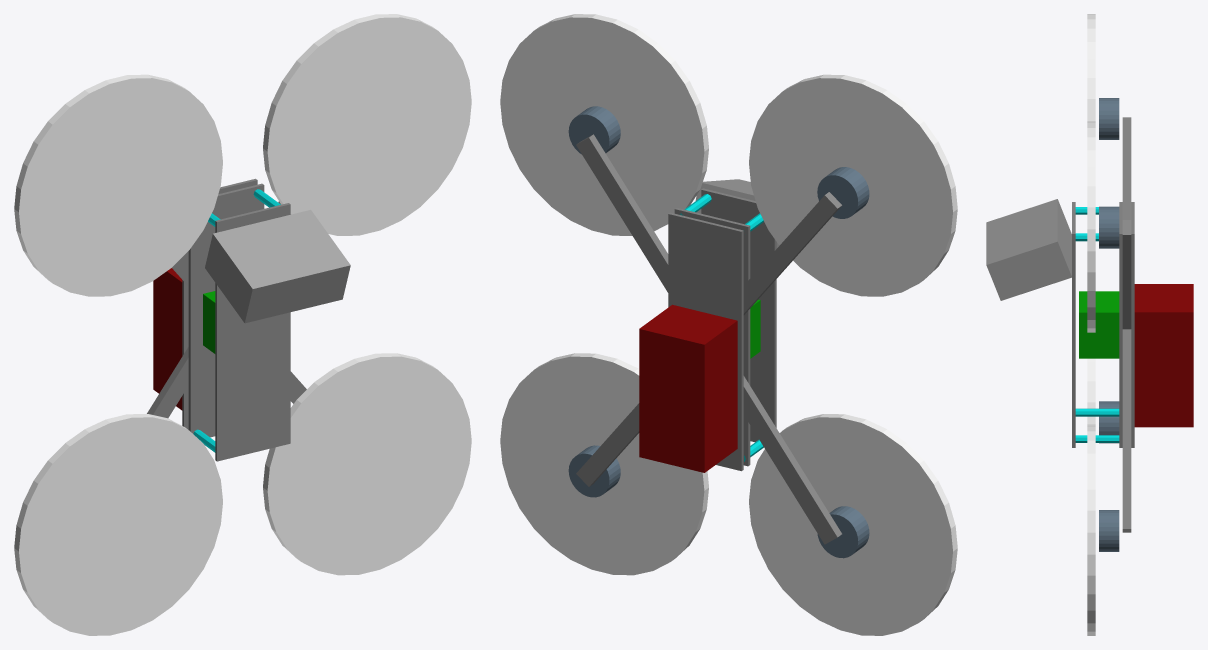
File: quad_model_scad.gltf
3 views of the same model, side by side, from view 1: azimuth 30°, elevation 25°; view 2: azimuth 150°, elevation 25°; view 3: azimuth 270°, elevation 25° (orthographic). The views are drawn at different scales.
Parts seen in each view (by area): view 1: module motor_prop (×4), module plate (×3), module gopro, module battery, module arm, module stack; view 2: module motor_prop (×8), module plate (×3), module battery, module arm (×2), module gopro; view 3: module battery, module motor_prop (×8), module gopro, module arm (×2), module plate (×3), module stack, module standoff.
Part boxes in pixels (x1=…): module motor_prop (×4): x1=14, y1=14, x2=471, y2=635; module plate (×3): x1=182, y1=178, x2=290, y2=461; module gopro: x1=205, y1=210, x2=350, y2=323; module battery: x1=153, y1=268, x2=182, y2=410; module arm: x1=147, y1=201, x2=290, y2=418; module stack: x1=203, y1=291, x2=215, y2=353; module motor_prop (×8): x1=500, y1=14, x2=957, y2=635; module plate (×3): x1=668, y1=188, x2=776, y2=471; module battery: x1=639, y1=304, x2=737, y2=472; module arm (×2): x1=576, y1=134, x2=842, y2=544; module gopro: x1=695, y1=179, x2=779, y2=248; module battery: x1=1134, y1=284, x2=1193, y2=427; module motor_prop (×8): x1=1087, y1=14, x2=1119, y2=635; module gopro: x1=986, y1=199, x2=1071, y2=300; module arm (×2): x1=1122, y1=117, x2=1131, y2=532; module plate (×3): x1=1072, y1=202, x2=1134, y2=447; module stack: x1=1079, y1=291, x2=1119, y2=358; module standoff: x1=1075, y1=408, x2=1119, y2=416.
Bounding box in the file's own units: 277 × 323 × 123.
